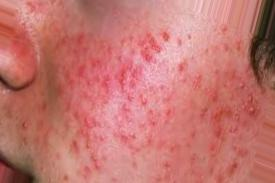Acne: (245, 104, 259, 117)
